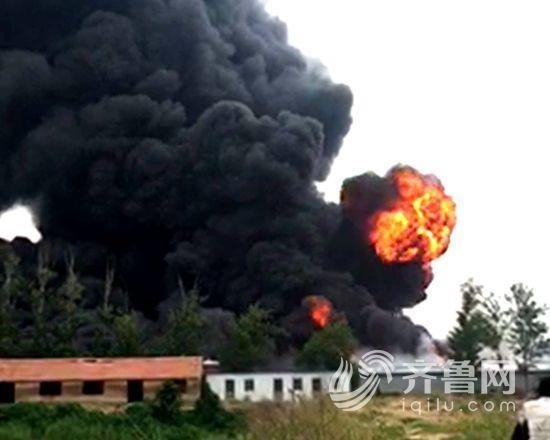fire: (364, 170, 456, 264)
